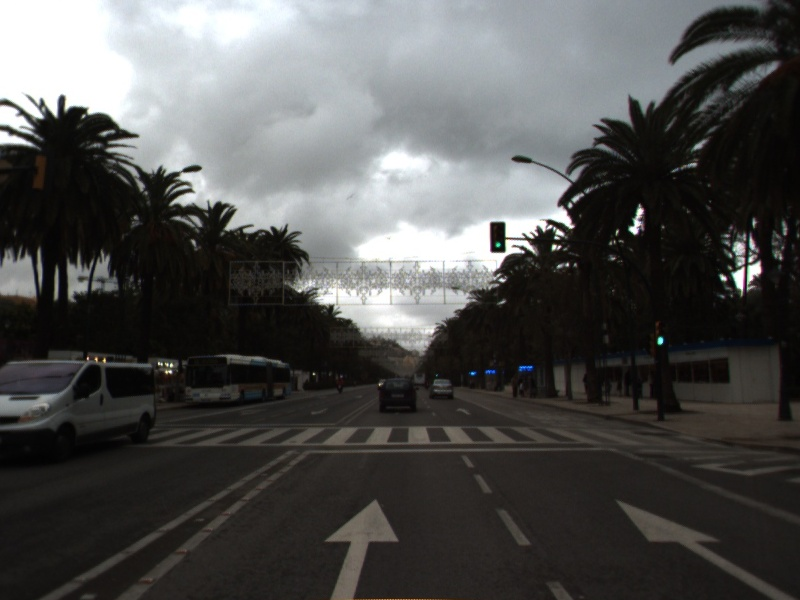STRAIGHT: (612, 496, 797, 600), (320, 495, 402, 600), (454, 405, 474, 417)
